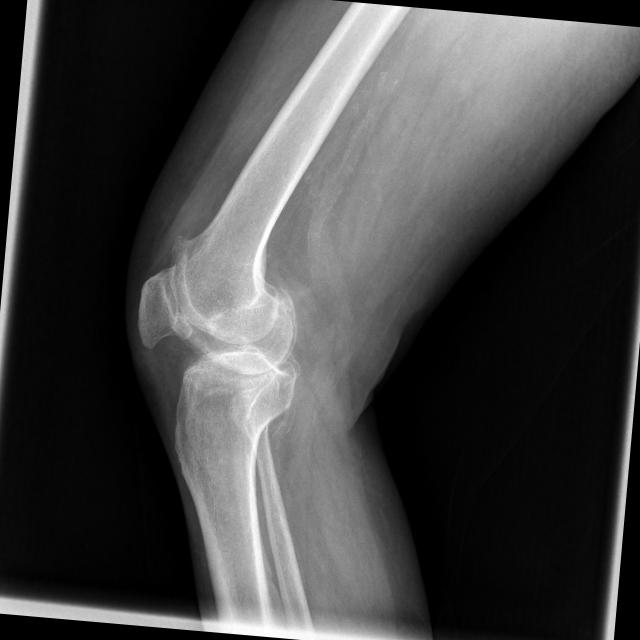Knee: (126, 252, 312, 448)
